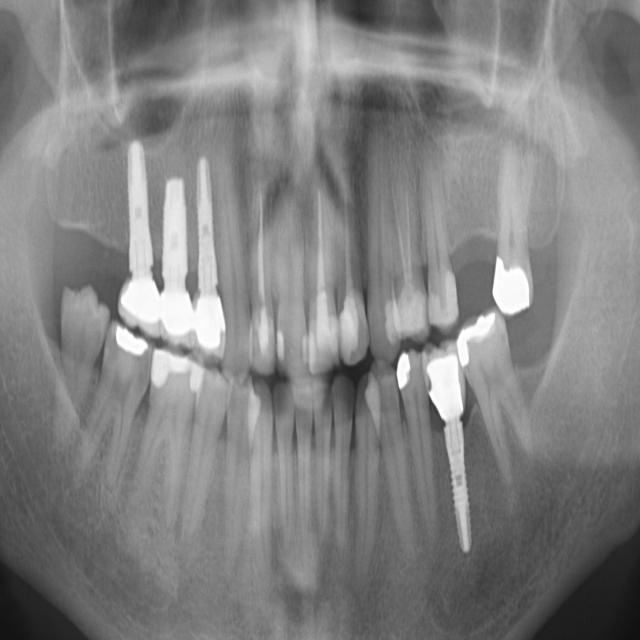infected-teeth: (334, 164, 371, 367), (387, 167, 430, 340), (305, 173, 340, 368), (248, 180, 279, 375)
